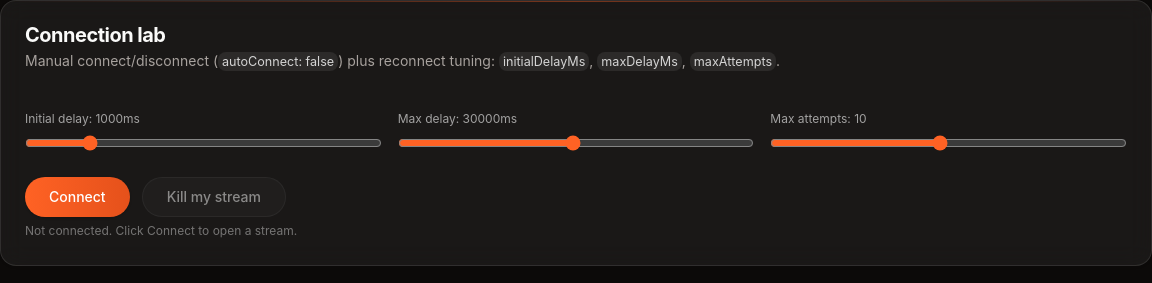
ConnectionLabPage › shows an error message when the kill switch fails
The image size is (1152, 283).
Click the button "Connect".
click(77, 197)  # box [25, 177, 130, 217]
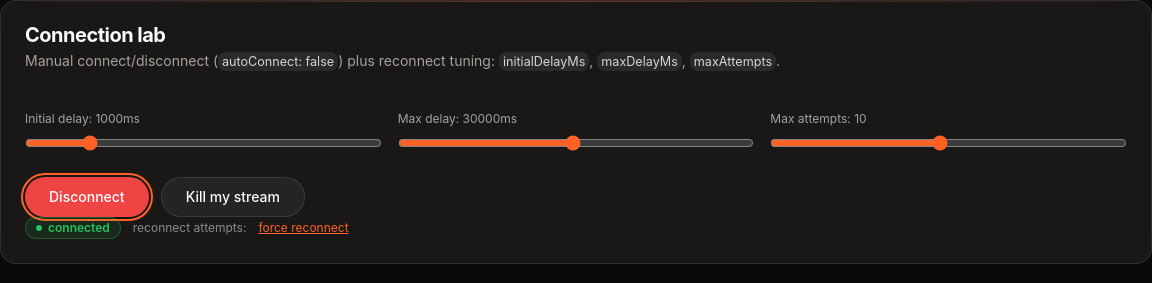
Click the button "Kill my stream".
click(233, 197)  # box [161, 177, 305, 217]
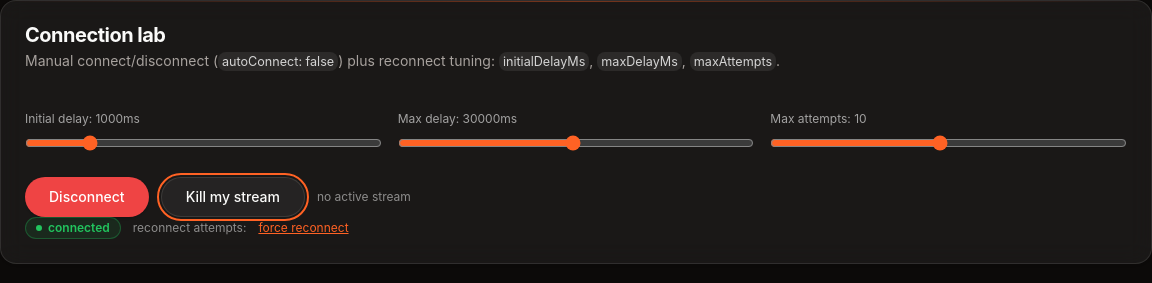
Check: the text "no active stream" is shown, box [317, 189, 411, 205]
